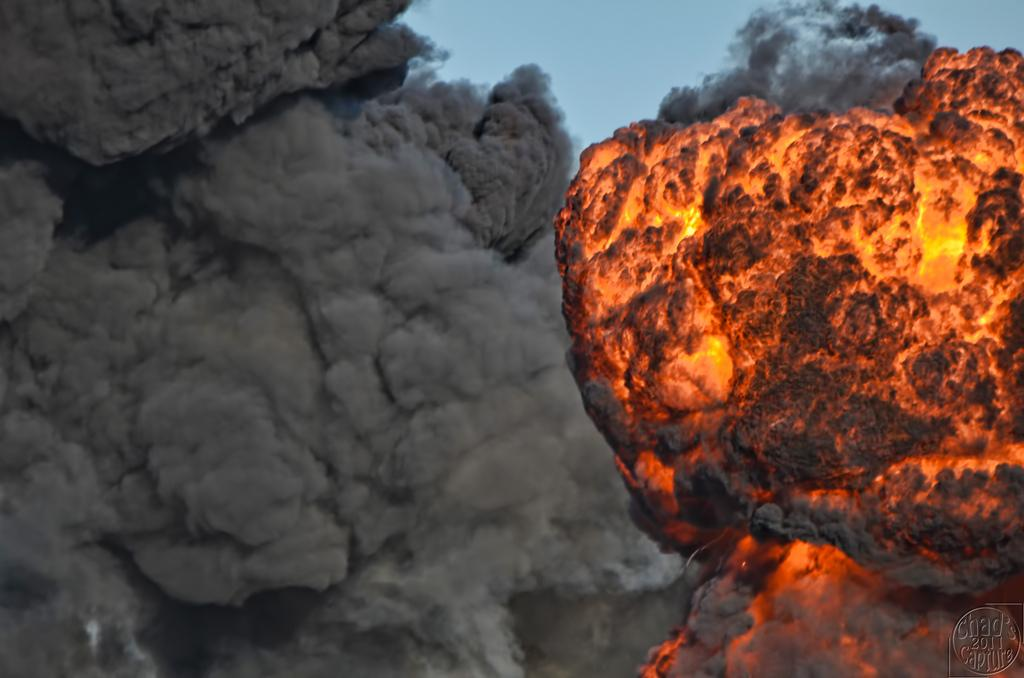fire: (640, 138, 1008, 392)
smoke: (42, 215, 532, 627)
